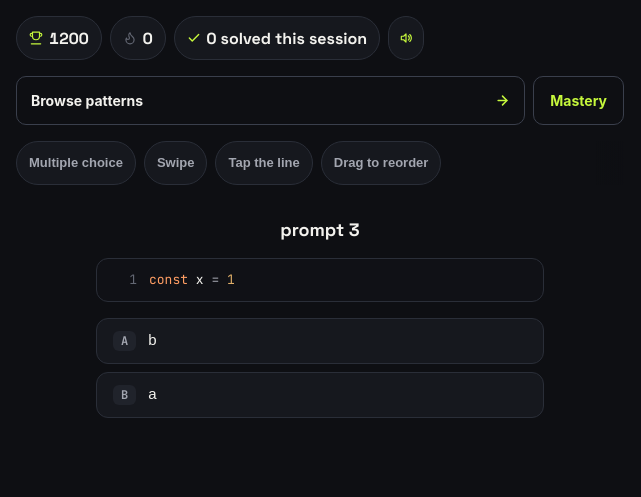
Test case: PracticePage › an interaction chip toggles the filter on click and clears it on a second click
Check: the text "prompt 3" is shown, box [280,218,360,241]
Click the button "Multiple choice": (76, 163) [16,141,136,185]
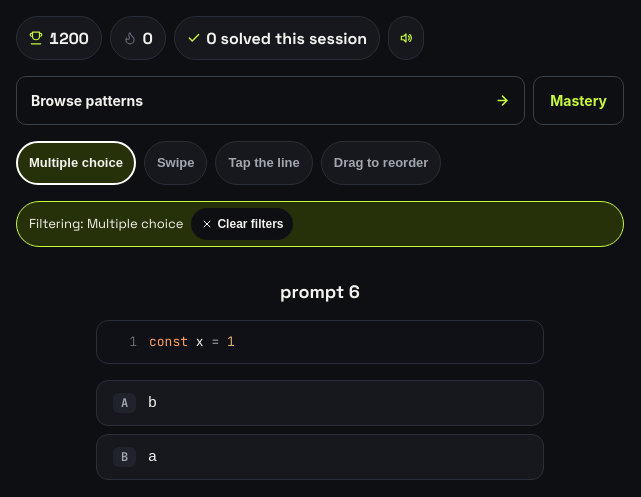
Check: the text "Filtering: Multiple choice" is shown, box [29,215,184,233]
Click the button "Multiple choice": (76, 163) [16,141,136,185]
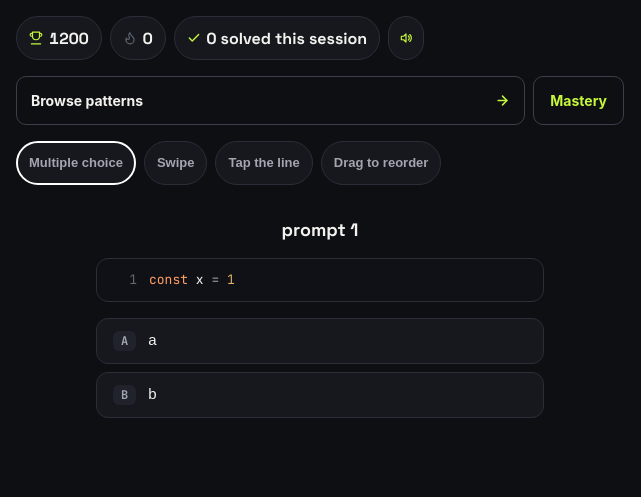
Check: the text "Filtering: " is gone
